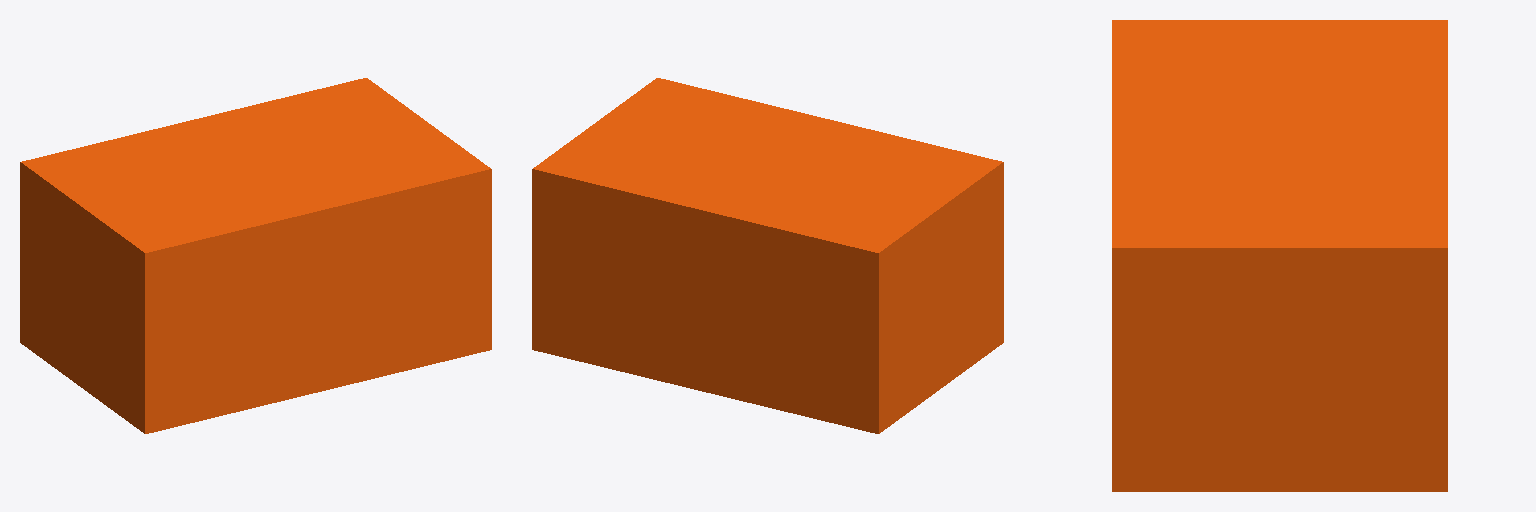
robot.urdf — simple_planar_bot:
<?xml version="1.0"?>
<robot name="simple_planar_bot">
  <link name="base_link">
    <visual>
      <origin xyz="0 0 0.1" rpy="0 0 0"/>
      <geometry>
        <box size="0.4 0.25 0.2"/>
      </geometry>
      <material name="orange">
        <color rgba="1.0 0.45 0.1 1.0"/>
      </material>
    </visual>

    <collision>
      <origin xyz="0 0 0.1" rpy="0 0 0"/>
      <geometry>
        <box size="0.4 0.25 0.2"/>
      </geometry>
    </collision>

    <inertial>
      <origin xyz="0 0 0.1" rpy="0 0 0"/>
      <mass value="5.0"/>
      <inertia ixx="0.05" ixy="0.0" ixz="0.0" iyy="0.09" iyz="0.0" izz="0.1"/>
    </inertial>
  </link>

  <gazebo>
    <plugin filename="libgazebo_ros_planar_move.so" name="simple_planar_move">
      <ros>
        <namespace>/simple_bot</namespace>
        <remapping>cmd_vel:=cmd_vel</remapping>
        <remapping>odom:=odom</remapping>
      </ros>
      <update_rate>50</update_rate>
      <publish_rate>20</publish_rate>
      <publish_odom>true</publish_odom>
      <publish_odom_tf>false</publish_odom_tf>
      <odometry_frame>odom</odometry_frame>
      <robot_base_frame>base_link</robot_base_frame>
    </plugin>
  </gazebo>
</robot>

--- Render facts (derived) ---
Views: 3 orthographic renders of the robot side by side, from view 1: azimuth 30°, elevation 25°; view 2: azimuth 150°, elevation 25°; view 3: azimuth 270°, elevation 25°.
Robot: simple_planar_bot — 1 links, 0 joints (none); root link base_link; default pose: every joint at zero.
Visible links, largest first — view 1: base_link; view 2: base_link; view 3: base_link.
Boxes of the visible links, bbox=[...] form: base_link: bbox=[20, 78, 491, 433]; base_link: bbox=[532, 78, 1003, 433]; base_link: bbox=[1112, 20, 1447, 491].
Bounding box of the posed robot: 0.4 × 0.25 × 0.2 m (x, y, z).
Geometry: primitives only (box / cylinder / sphere), no mesh files.
